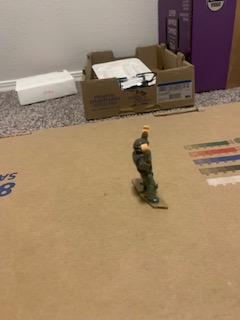soldier: (130, 123, 169, 209)
